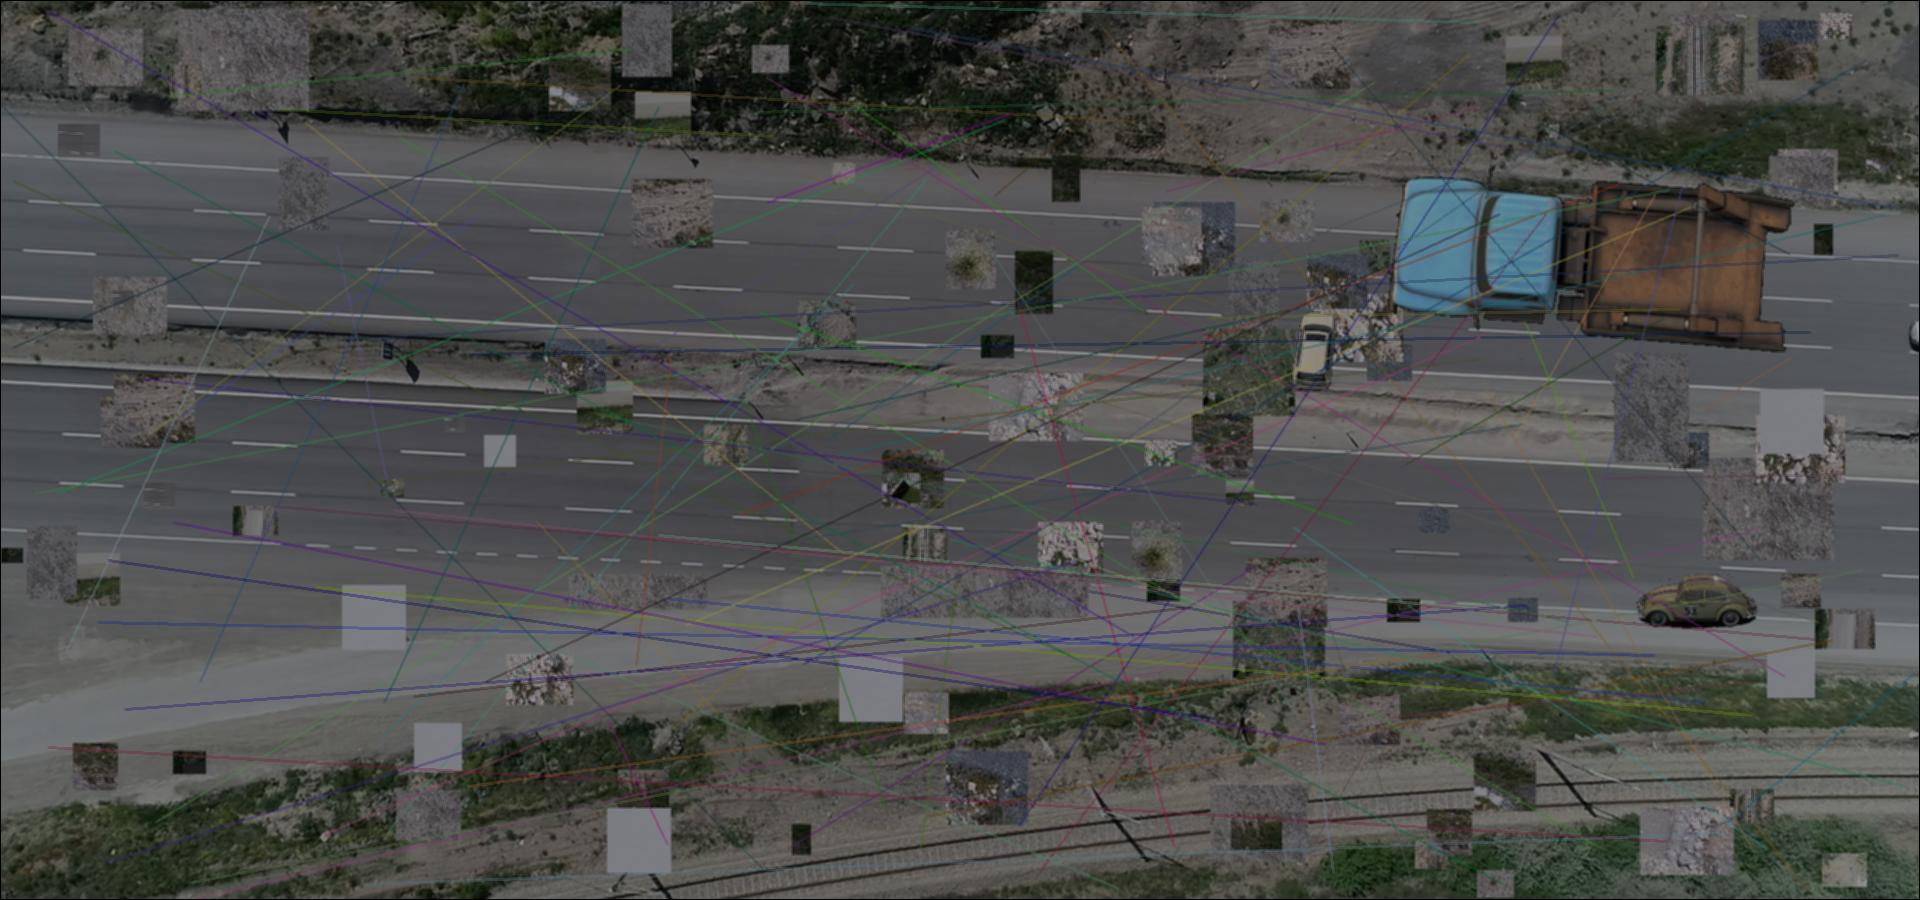arac: (1376, 165, 1798, 356), (1633, 574, 1760, 629), (1289, 310, 1340, 389)
